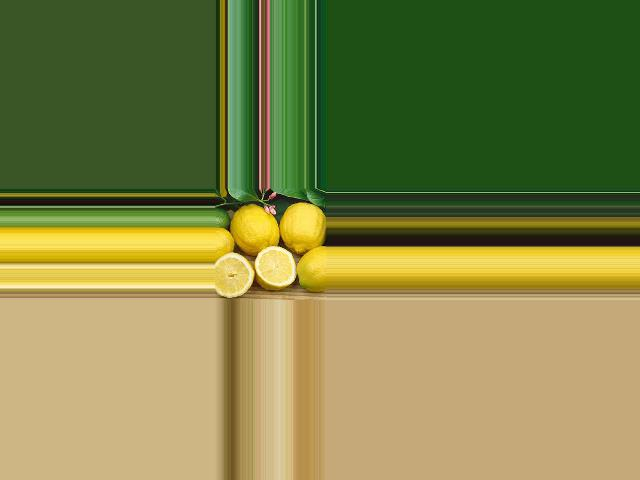lemon: (290, 241, 327, 290)
